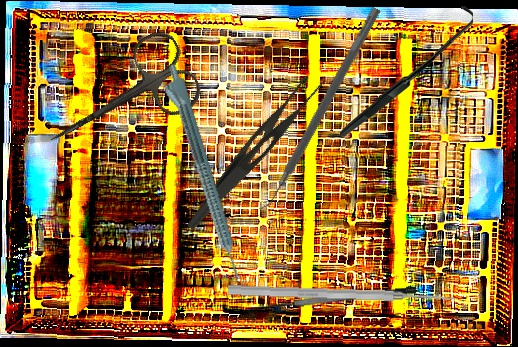Dressing Forceps: (185, 64, 329, 244)
Handpiece: (156, 61, 245, 285)
Hook Surgical: (337, 5, 476, 137)
Iris Scissors: (29, 25, 208, 176)
Pusher: (227, 283, 456, 306)
Spatula Surgical: (254, 1, 382, 217), (247, 284, 418, 324)
